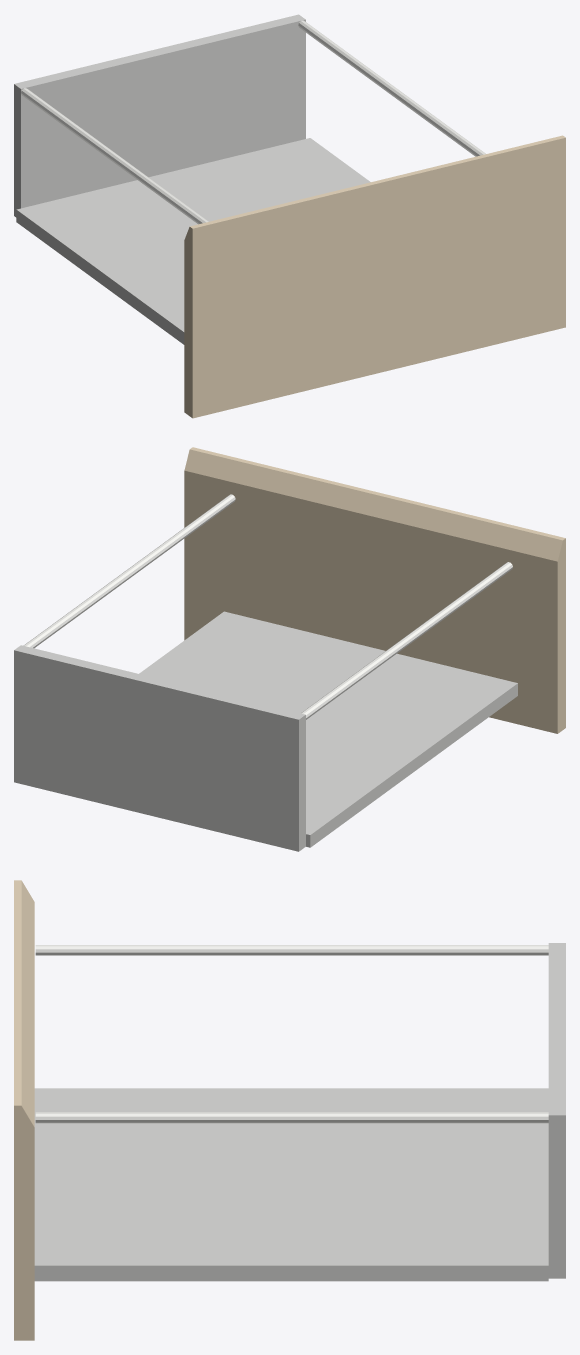
Rendered from skuff_N2_2.glb.
3 renders of one model, top to bottom at view 1: azimuth 30°, elevation 25°; view 2: azimuth 150°, elevation 25°; view 3: azimuth 270°, elevation 25°, orthographic. The views are drawn at different scales.
Size of the model in its own units: 494 by 240 by 511.
